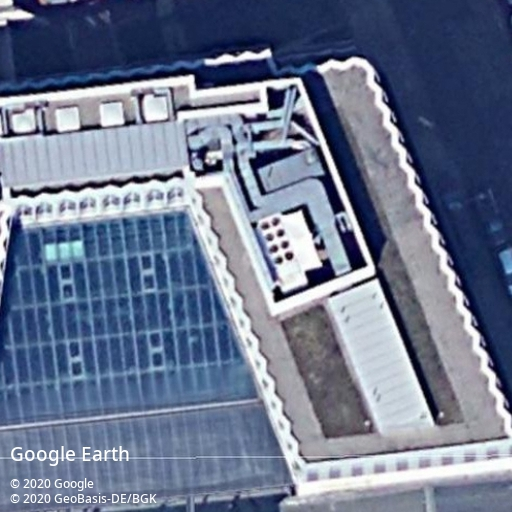Chiller: (255, 211, 311, 295)
